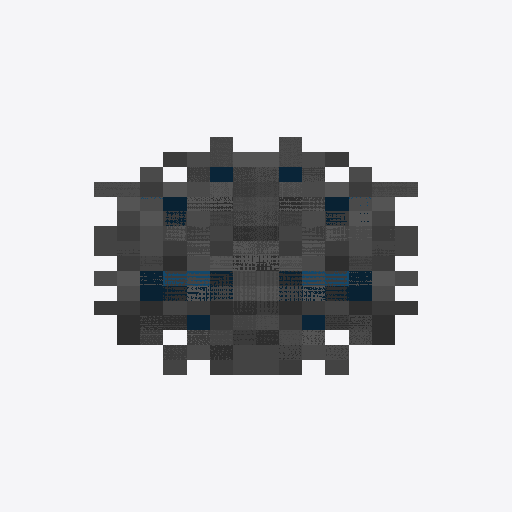
A Minecraft block model of 4 cuboids, rendered isometrically (azimuth 45°, elevation 35.3°) with the resource pack's own textures.
Visible parts, largest first — bush, berry.
Part boxes in pixels (bbox=[...]): bush: bbox=[94, 137, 417, 374]; berry: bbox=[140, 167, 371, 329].
Bounding box in the file's own units: 14.4 × 16 × 14.4.